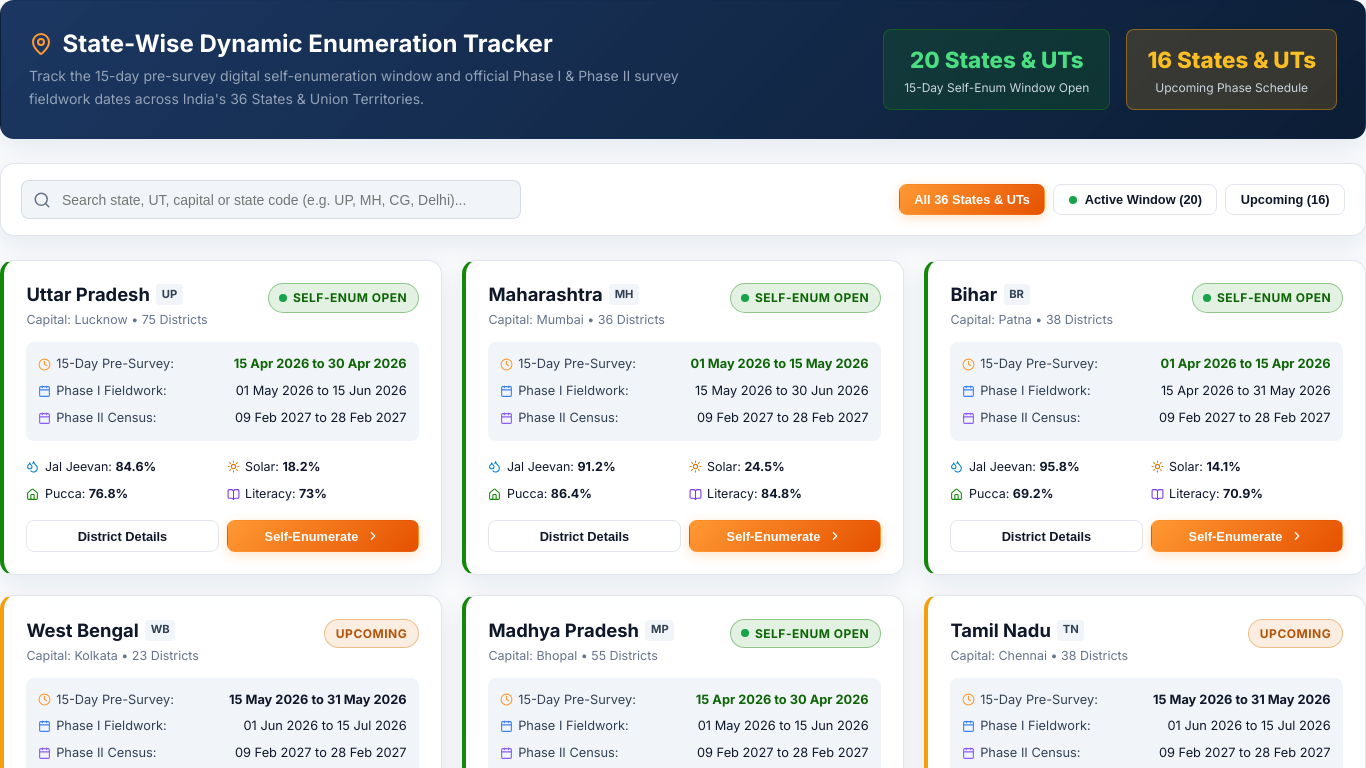
Test: StateTracker Component › filters state cards via search input
Replace the text in the field with placeholder "Search state, UT, capital" with "Kerala" at (271, 200), box left=21, top=180, right=521, bottom=219
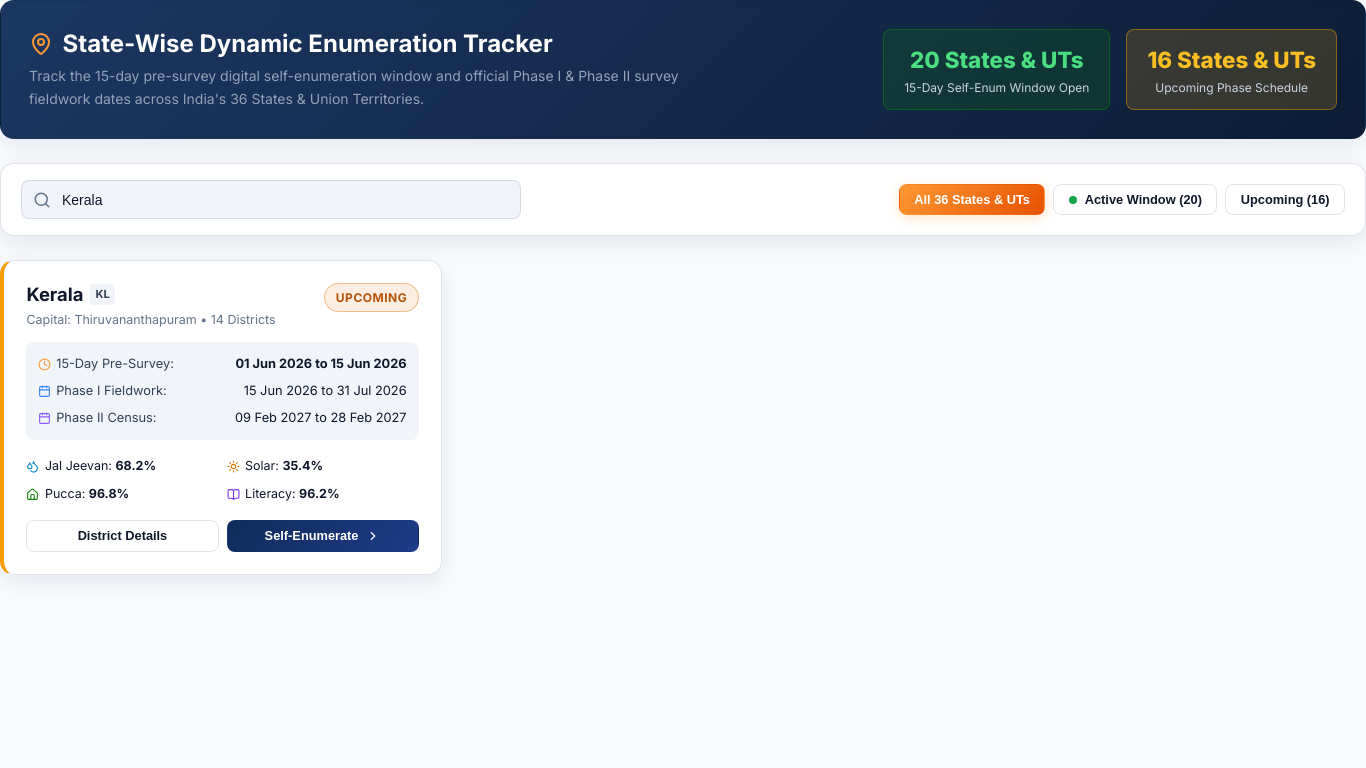
Expected: the heading "Kerala" is shown, left=26, top=283, right=83, bottom=306
Now the heading "Uttar Pradesh" is gone
